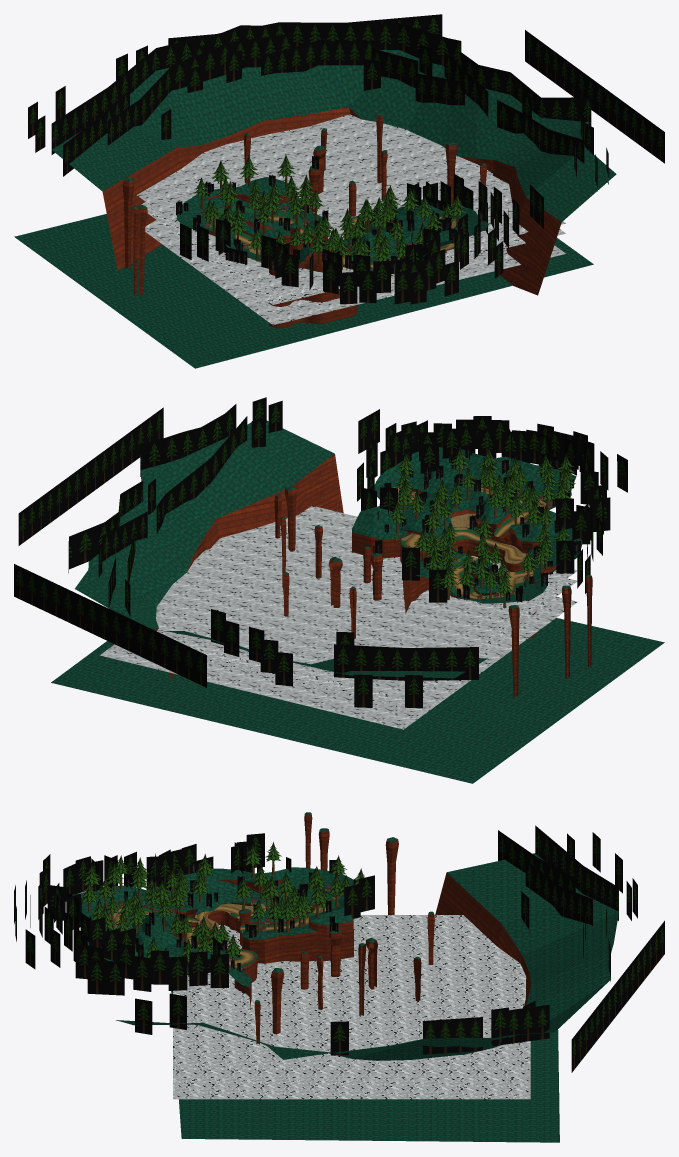
The picture shows the model from 3 angles, top to bottom: view 1: azimuth 30°, elevation 25°; view 2: azimuth 150°, elevation 25°; view 3: azimuth 270°, elevation 25°; orthographic projection. The views are drawn at different scales.
Visible parts, largest first — view 1: Plane.158, Plane.176, Plane.159, Plane.161, Plane.196, Plane.194, Plane.195, Plane.167; view 2: Plane.158, Plane.176, Plane.159, Plane.161, Plane.196, Plane.194, Plane.168, Plane.195, Plane.169, Plane.167; view 3: Plane.159, Plane.158, Plane.176, Plane.161, Plane.196, Plane.194, Plane.195, Plane.168, Plane.167.
Part boxes in pixels (left/top/right/bottom): Plane.158: left=14, top=50, right=616, bottom=368; Plane.176: left=28, top=14, right=664, bottom=304; Plane.159: left=137, top=114, right=565, bottom=325; Plane.161: left=102, top=107, right=561, bottom=328; Plane.196: left=193, top=155, right=466, bottom=261; Plane.194: left=176, top=155, right=484, bottom=274; Plane.195: left=200, top=175, right=458, bottom=269; Plane.167: left=206, top=206, right=398, bottom=269; Plane.158: left=51, top=420, right=664, bottom=783; Plane.176: left=14, top=397, right=627, bottom=708; Plane.159: left=100, top=505, right=577, bottom=729; Plane.161: left=153, top=454, right=592, bottom=697; Plane.196: left=387, top=446, right=575, bottom=596; Plane.194: left=373, top=444, right=587, bottom=602; Plane.168: left=404, top=489, right=544, bottom=598; Plane.195: left=394, top=468, right=568, bottom=608; Plane.169: left=393, top=484, right=546, bottom=597; Plane.167: left=400, top=490, right=528, bottom=596; Plane.159: left=173, top=915, right=530, bottom=1099; Plane.158: left=72, top=812, right=618, bottom=1142; Plane.176: left=14, top=825, right=664, bottom=1072; Plane.161: left=118, top=813, right=531, bottom=1099; Plane.196: left=81, top=842, right=364, bottom=962; Plane.194: left=81, top=856, right=357, bottom=976; Plane.195: left=88, top=861, right=339, bottom=974; Plane.168: left=114, top=898, right=325, bottom=965; Plane.167: left=110, top=889, right=339, bottom=966.
Size of the model in its own units: 198768 by 56785 by 220955.
Materials: 26 (26 with a texture image).
